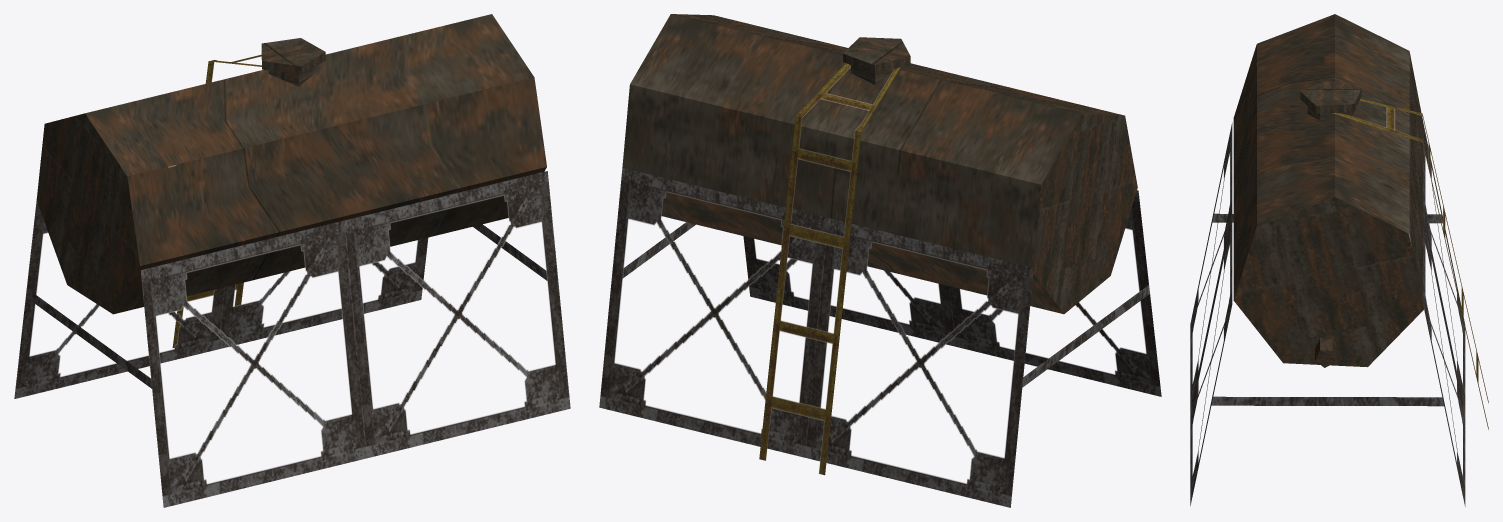
Rendered from psxprop_-_old_fuel_tank.glb.
The picture shows the model from 3 angles, left to right: view 1: azimuth 30°, elevation 25°; view 2: azimuth 150°, elevation 25°; view 3: azimuth 270°, elevation 25°; orthographic projection. The views are drawn at different scales.
Visible parts, largest first — view 1: FuelTank.001, FuelTank; view 2: FuelTank.001, FuelTank; view 3: FuelTank.001, FuelTank.
Boxes of the visible parts, x1,y1,x2,y2 form: FuelTank.001: (36, 14, 546, 314); FuelTank: (14, 54, 570, 507); FuelTank.001: (622, 14, 1137, 314); FuelTank: (599, 63, 1161, 507); FuelTank.001: (1233, 14, 1423, 367); FuelTank: (1190, 99, 1488, 506).
Size of the model in its own units: 3.82 by 2.95 by 2.47.
2 materials, 2 textured.
